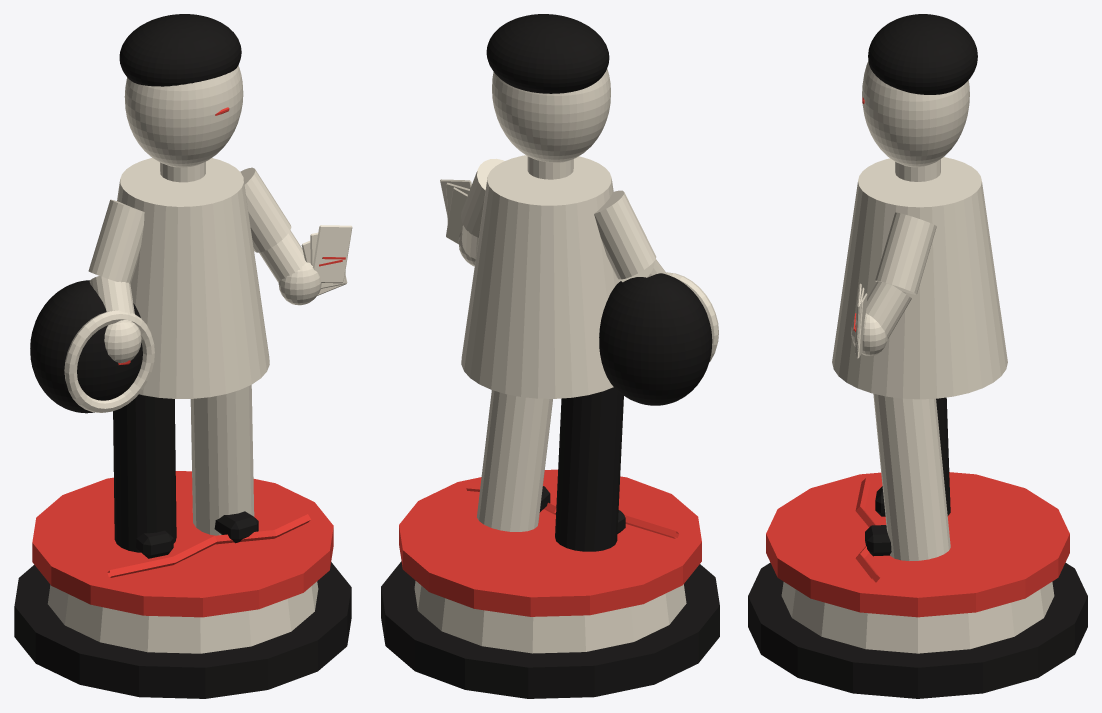
The model's file is landing-han-han-statue.glb.
3 renders of one model, left to right at view 1: azimuth 30°, elevation 25°; view 2: azimuth 150°, elevation 25°; view 3: azimuth 270°, elevation 25°, orthographic.
Parts seen in each view (by area): view 1: hanHanStatuePaperVisual, hanHanStatueInkVisual, hanHanStatueRedVisual; view 2: hanHanStatuePaperVisual, hanHanStatueInkVisual, hanHanStatueRedVisual; view 3: hanHanStatuePaperVisual, hanHanStatueRedVisual, hanHanStatueInkVisual.
Boxes of the visible parts, box(x1,y1,x2,y2) form: hanHanStatuePaperVisual: box(47, 65, 352, 653); hanHanStatueInkVisual: box(14, 14, 351, 698); hanHanStatueRedVisual: box(32, 107, 345, 617); hanHanStatuePaperVisual: box(414, 68, 718, 653); hanHanStatueInkVisual: box(381, 14, 719, 698); hanHanStatueRedVisual: box(399, 469, 701, 616); hanHanStatuePaperVisual: box(781, 61, 1054, 653); hanHanStatueRedVisual: box(766, 97, 1069, 617); hanHanStatueInkVisual: box(748, 14, 1087, 698).
Bounding box in the file's own units: 3.44 × 6.67 × 3.4.
